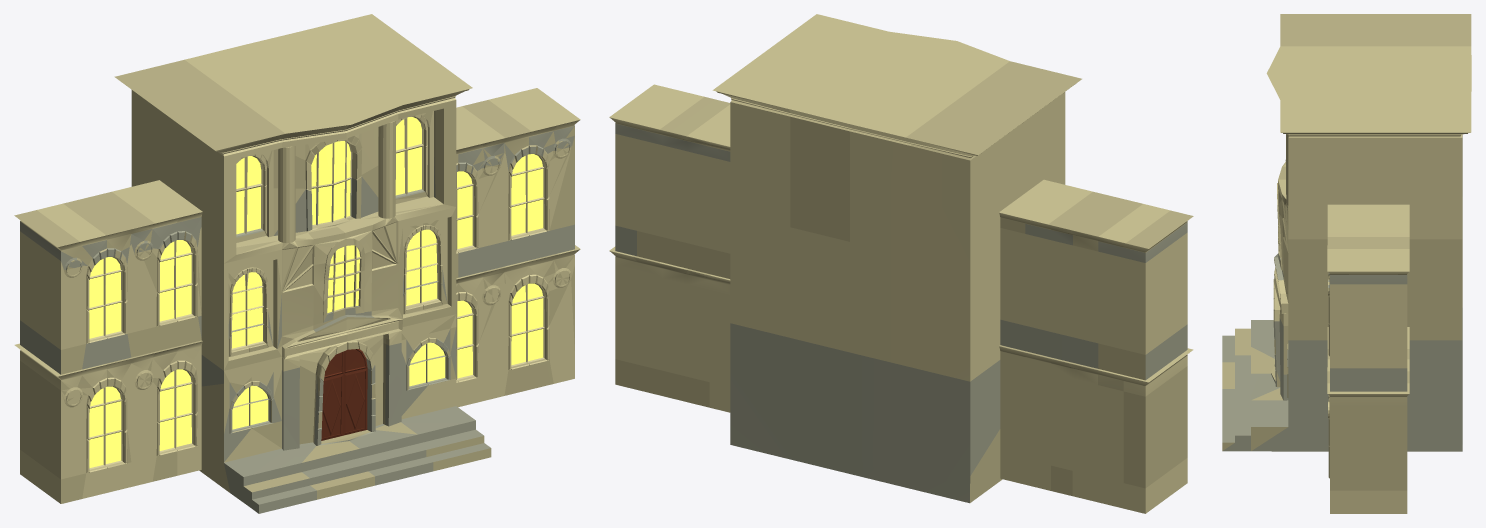
Rendered from museum_unity.fbx.
3 views of the same model, side by side, from view 1: azimuth 30°, elevation 25°; view 2: azimuth 150°, elevation 25°; view 3: azimuth 270°, elevation 25° (orthographic). The views are drawn at different scales.
Parts seen in each view (by area): view 1: polySurface1.001, pCube5.001, pCube4.001, polySurface2.001; view 2: polySurface1.001, pCube5.001, pCube4.001; view 3: polySurface1.001, pCube5.001, pCube4.001.
Part boxes in pixels (x1,y1,x2,y2): polySurface1.001: [114, 14, 491, 513]; pCube5.001: [14, 88, 580, 374]; pCube4.001: [14, 245, 580, 503]; polySurface2.001: [321, 349, 367, 440]; polySurface1.001: [712, 14, 1081, 503]; pCube5.001: [609, 84, 1193, 380]; pCube4.001: [609, 246, 1193, 513]; polySurface1.001: [1222, 14, 1471, 451]; pCube5.001: [1327, 204, 1409, 391]; pCube4.001: [1327, 327, 1409, 513].
Size of the model in its own units: 1865 by 1171 by 816.
